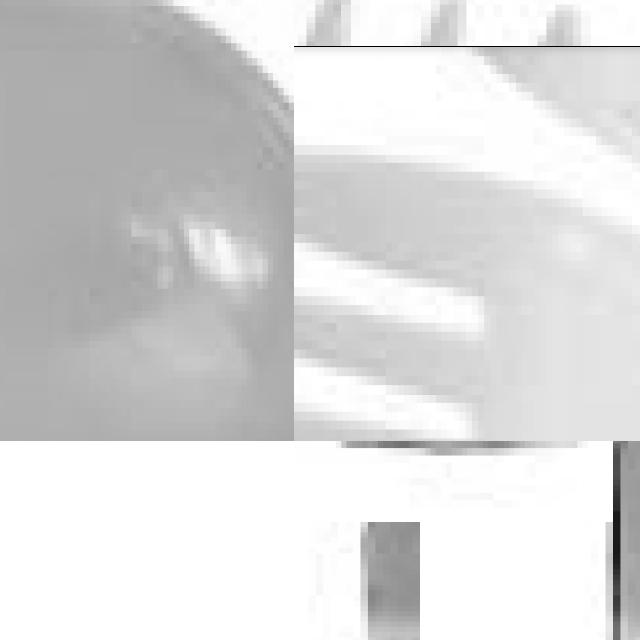forks: (294, 13, 640, 441), (294, 441, 516, 619)
spoons: (0, 0, 294, 441)
